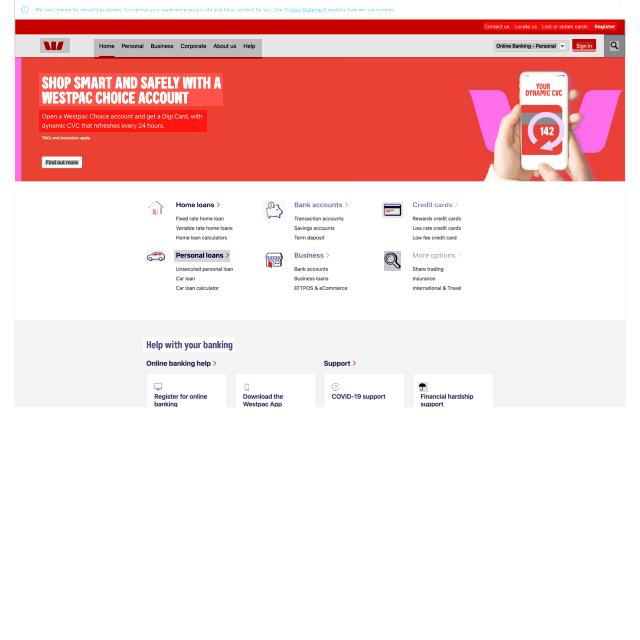CheckBox: (174, 250, 230, 262), (411, 250, 463, 261), (294, 200, 350, 210), (174, 200, 224, 211), (41, 156, 83, 168), (604, 34, 625, 57), (408, 200, 461, 208), (294, 250, 330, 259), (572, 40, 596, 51)
Input field: (39, 110, 207, 132)
ProgressBar: (15, 0, 626, 20)
alert: (494, 40, 569, 52)
bag: (14, 0, 626, 58)
breadcrumbs: (143, 337, 234, 352)
card: (14, 58, 626, 182)
carousel: (263, 200, 285, 220), (147, 202, 166, 220), (264, 251, 283, 269), (384, 251, 401, 271), (382, 202, 403, 218), (146, 250, 165, 262), (420, 382, 430, 392), (153, 382, 164, 391), (610, 41, 619, 51), (332, 383, 340, 390), (244, 383, 250, 392), (616, 2, 623, 8), (560, 43, 565, 49)
data feed: (496, 43, 557, 49), (45, 160, 79, 165), (576, 43, 593, 49)
date picker: (40, 38, 70, 53)
decoration: (94, 39, 262, 59), (484, 22, 617, 30)
image: (39, 73, 223, 106)
